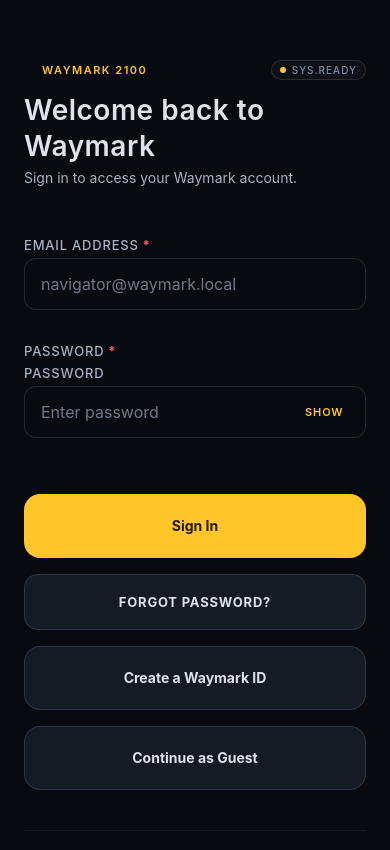
it: Feature 04.2.2 — Sign-In Screen & Form Validation › TC-04.2.2-07: validates that password is required
In the field with test id "input-sign-in-email-input": (195, 284) [41, 264, 349, 304], type "pilot@waymark.local"
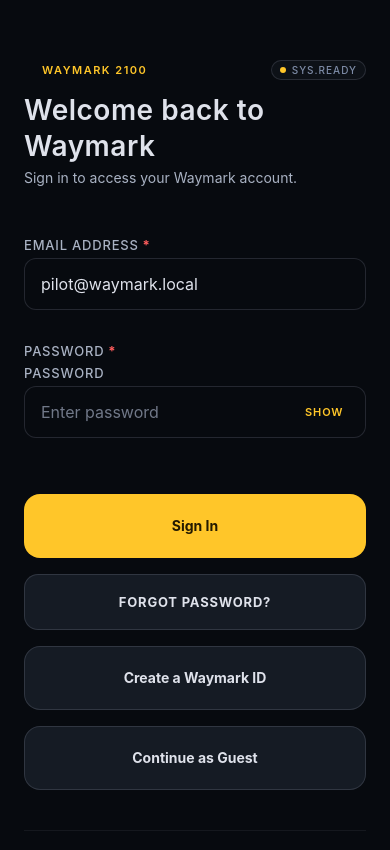
Click the button with test id "btn-submit-sign-in": (195, 526) [24, 494, 366, 558]
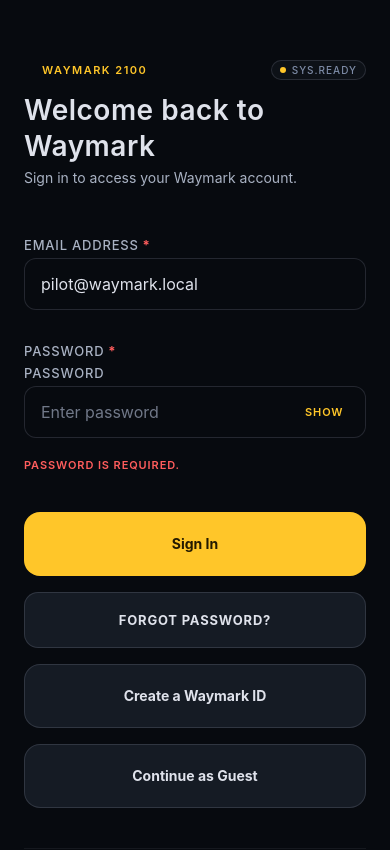
Check: the text "Password is required." is shown, box [24, 458, 180, 472]
